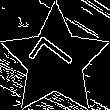L_SE: (27, 34, 83, 88)
